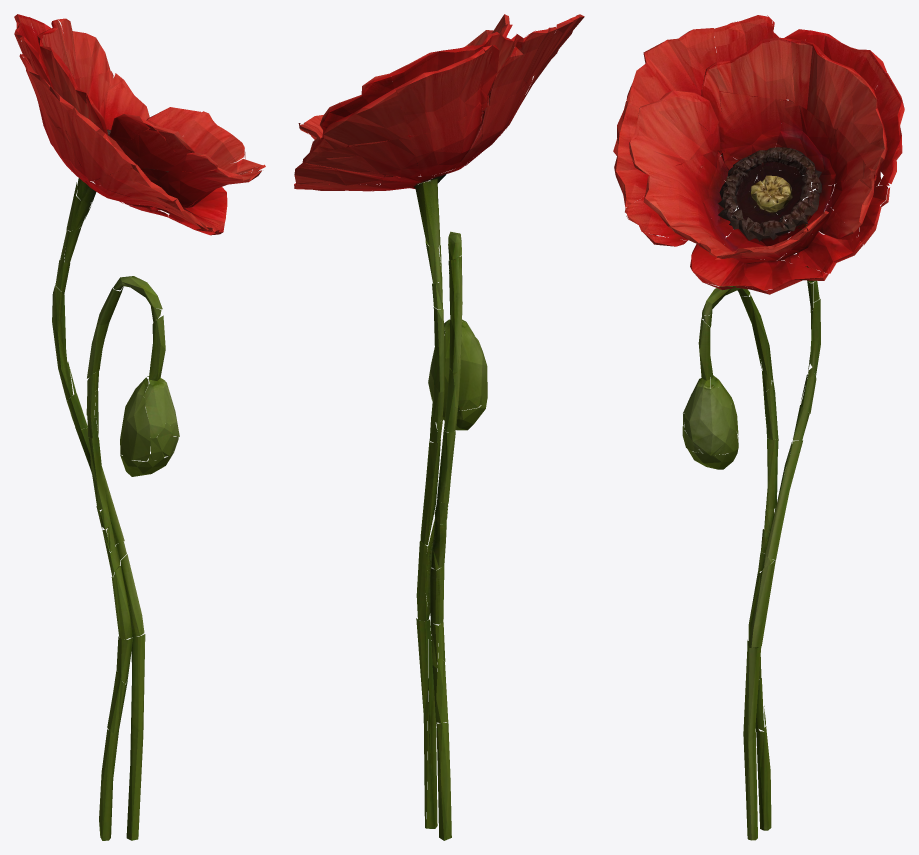
File: flor_10_amapola.glb
3 renders of one model, left to right at view 1: azimuth 30°, elevation 25°; view 2: azimuth 150°, elevation 25°; view 3: azimuth 270°, elevation 25°, orthographic. The views are drawn at different scales.
Parts seen in each view (by area): view 1: tripo_node_1ec3d447-07d9-4216-b4dc-a0fb17906262; view 2: tripo_node_1ec3d447-07d9-4216-b4dc-a0fb17906262; view 3: tripo_node_1ec3d447-07d9-4216-b4dc-a0fb17906262.
Part boxes in pixels (x1,y1,x2,y2): tripo_node_1ec3d447-07d9-4216-b4dc-a0fb17906262: [14, 14, 265, 840]; tripo_node_1ec3d447-07d9-4216-b4dc-a0fb17906262: [294, 14, 584, 840]; tripo_node_1ec3d447-07d9-4216-b4dc-a0fb17906262: [613, 15, 904, 840].
Bounding box in the file's own units: 0.2871 × 0.9993 × 0.3409.
Materials: 1 (1 with a texture image).
